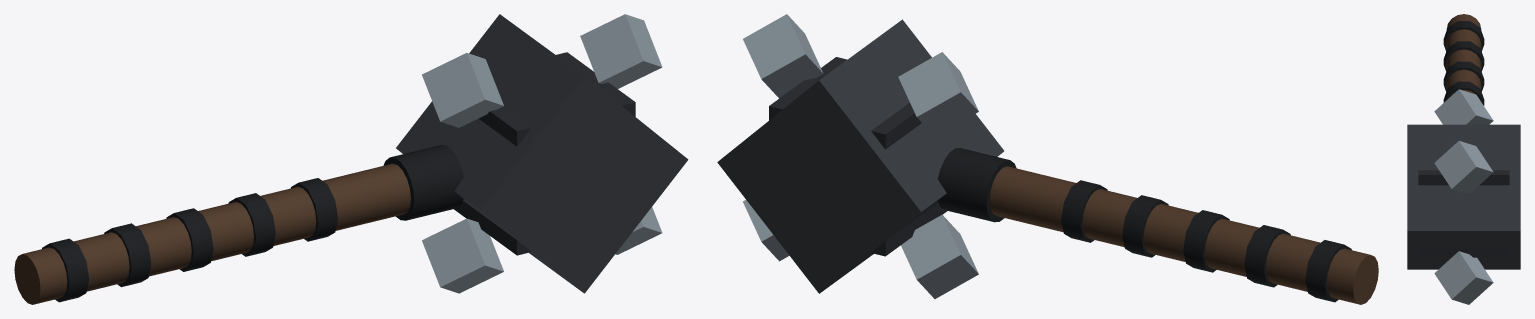
File: fantasy-lab-bell-mace-v1.glb
The picture shows the model from 3 angles, left to right: view 1: azimuth 30°, elevation 25°; view 2: azimuth 150°, elevation 25°; view 3: azimuth 270°, elevation 25°; orthographic projection. The views are drawn at different scales.
Visible parts, largest first — view 1: Bell Mace; view 2: Bell Mace; view 3: Bell Mace.
Part boxes in pixels (box(x1,y1,x2,y2)): Bell Mace: box(14, 14, 688, 304); Bell Mace: box(717, 14, 1378, 304); Bell Mace: box(1407, 14, 1520, 304).
Size of the model in its own units: 2.21 by 0.8331 by 0.52.
